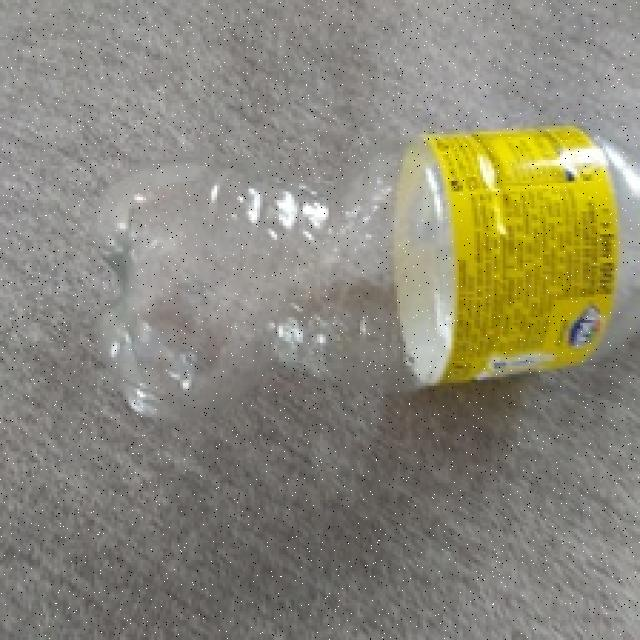plastic: (88, 130, 638, 405)
